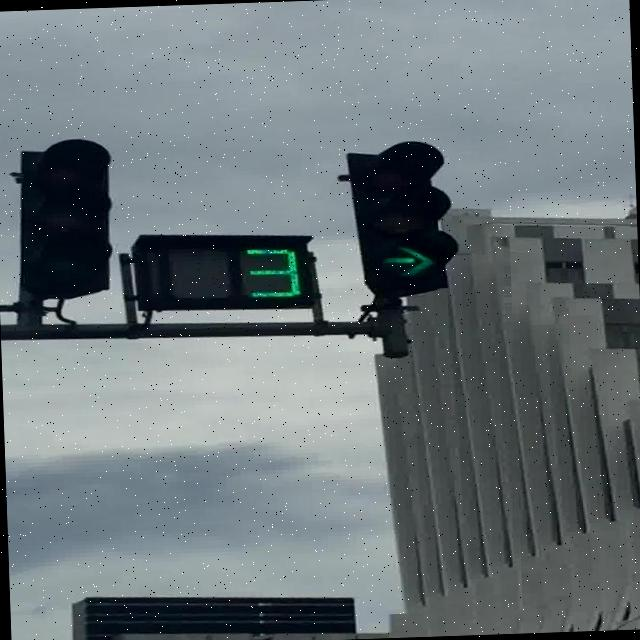green_light: (345, 140, 460, 294)
